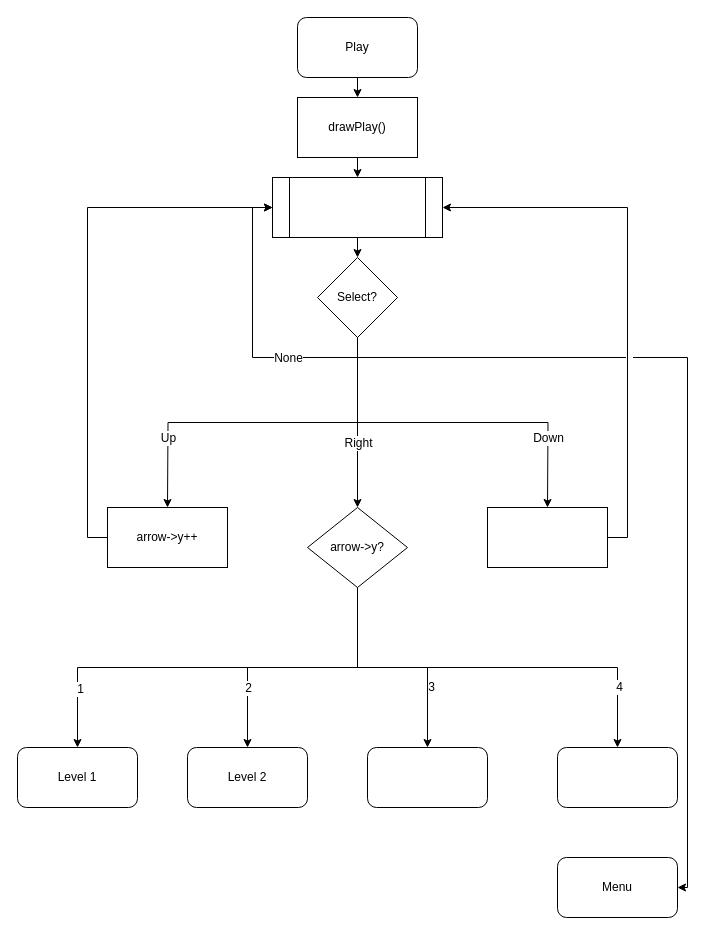
The diagram is 713 pixels wide and 935 high, and some of its shapes have lost their labels. The shapes that lost their labels are listed below. From the top down, each one's centre as x and y in pixels, then its label:
At (357,207): "chooseLevel()".
At (547,537): "arrow->y--".
At (427,777): "Level 3".
At (617,777): "Level 4".
